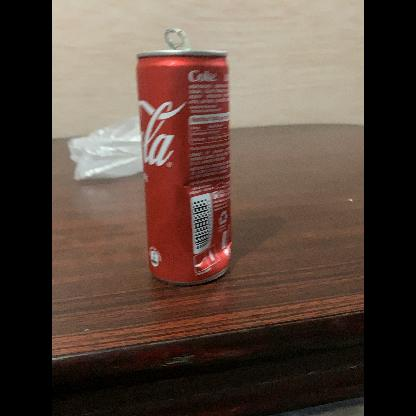Dent_Can: (192, 218, 235, 284), (181, 170, 231, 204)
Lid_Open: (160, 24, 200, 64)
Tin_Can: (131, 27, 244, 295)
